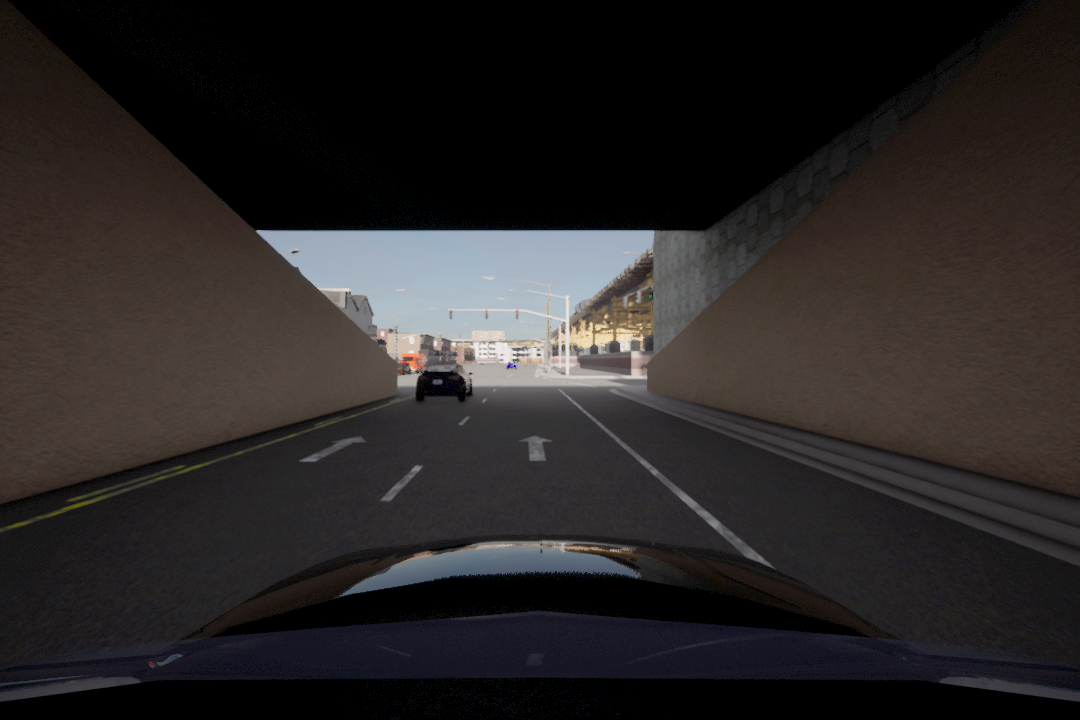RoadSign_forward: (291, 431, 367, 467), (516, 432, 551, 466)
